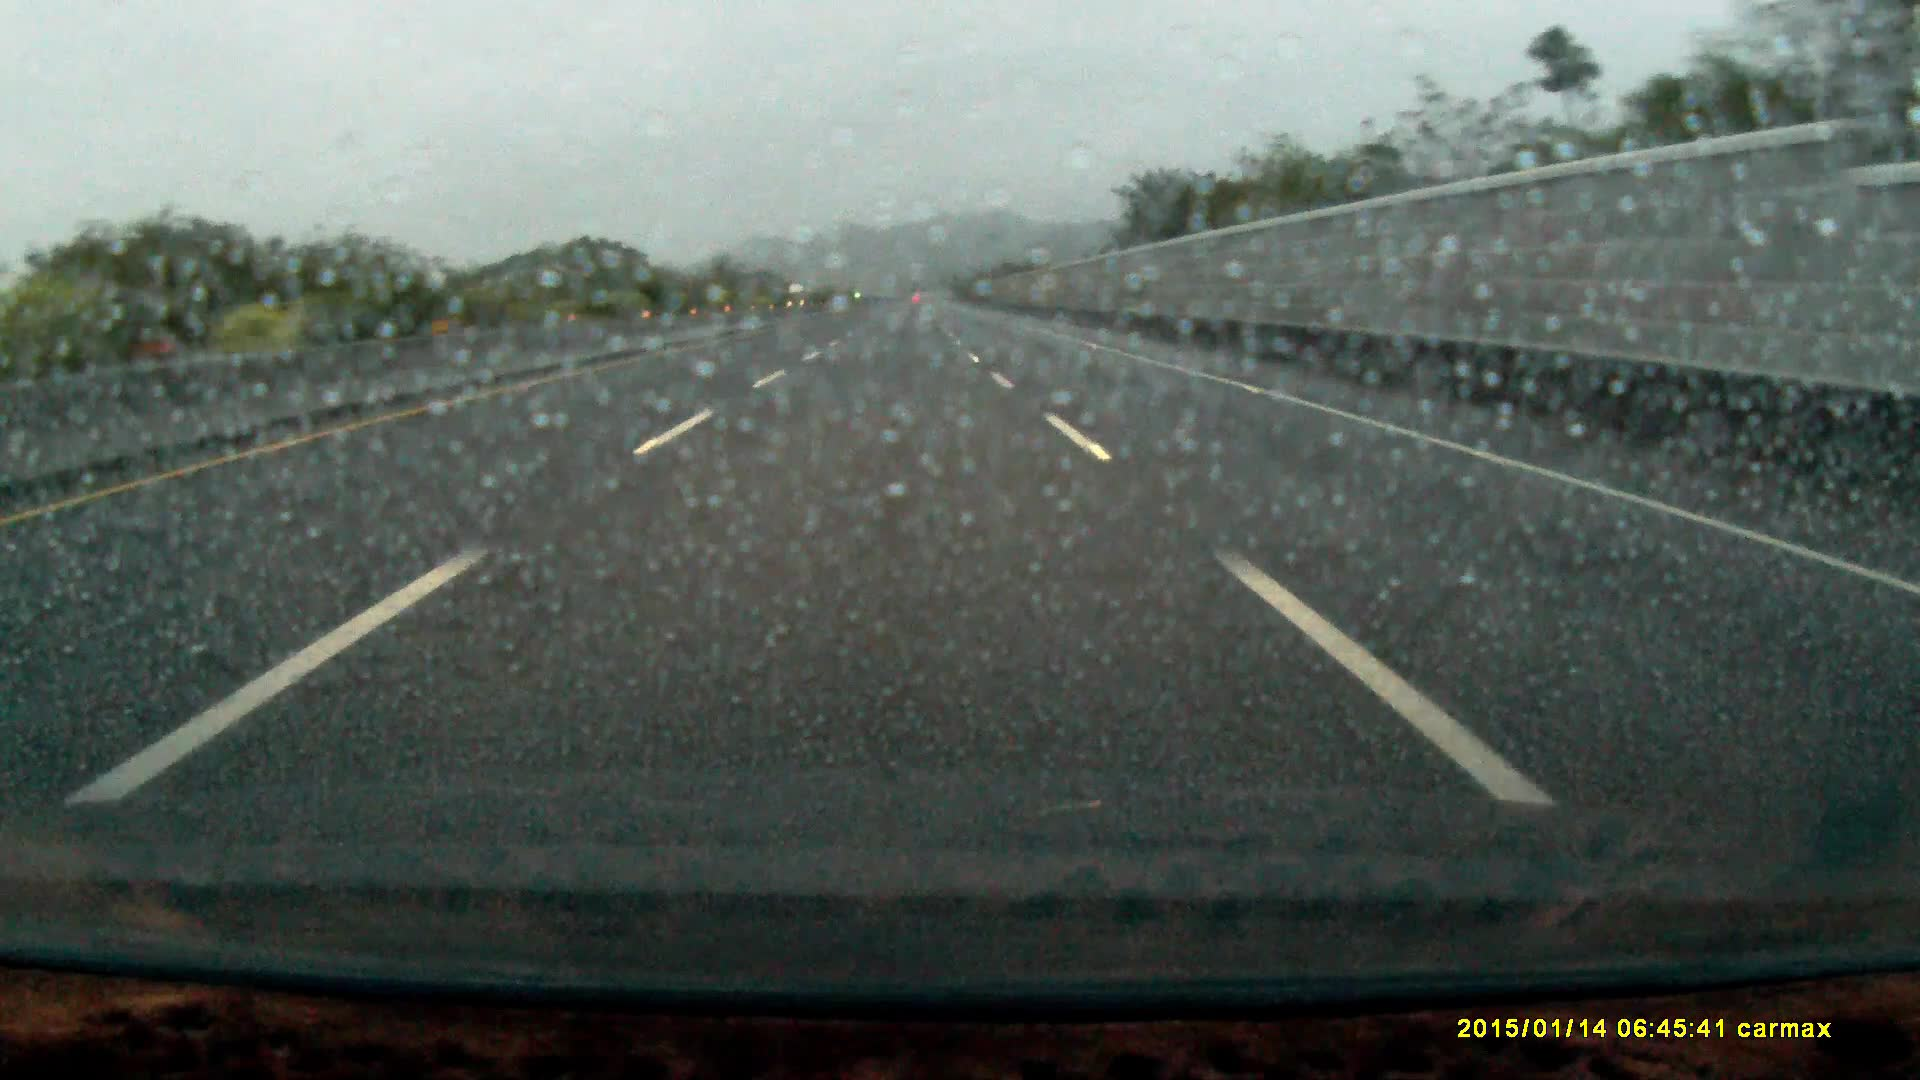vehicle: (787, 282, 812, 307)
